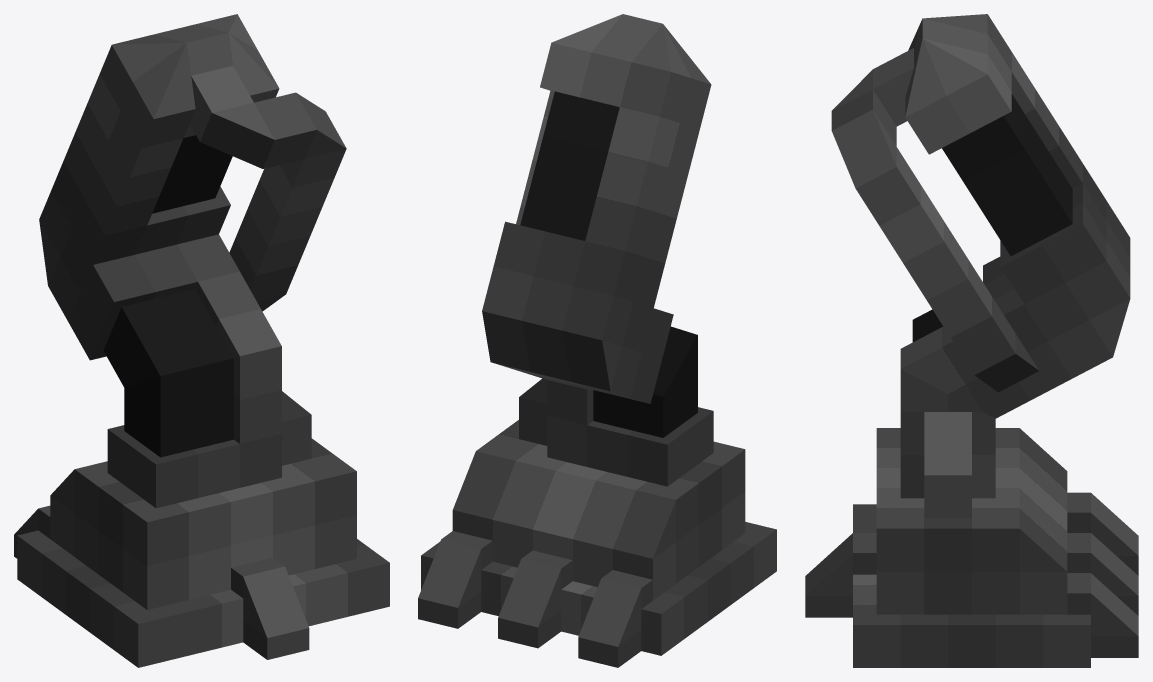
File: leg_reinforced_r.obj
3 views of the same model, side by side, from view 1: azimuth 30°, elevation 25°; view 2: azimuth 150°, elevation 25°; view 3: azimuth 270°, elevation 25° (orthographic). The views are drawn at different scales.
Parts seen in each view (by area): view 1: LEG_RIGHT_REINFORCED_Cube.039; view 2: LEG_RIGHT_REINFORCED_Cube.039; view 3: LEG_RIGHT_REINFORCED_Cube.039.
Part boxes in pixels (x1=…): LEG_RIGHT_REINFORCED_Cube.039: x1=14, y1=14, x2=389, y2=667; LEG_RIGHT_REINFORCED_Cube.039: x1=418, y1=14, x2=776, y2=667; LEG_RIGHT_REINFORCED_Cube.039: x1=805, y1=14, x2=1138, y2=667.
Size of the model in its own units: 0.375 by 0.8246 by 0.4375.
